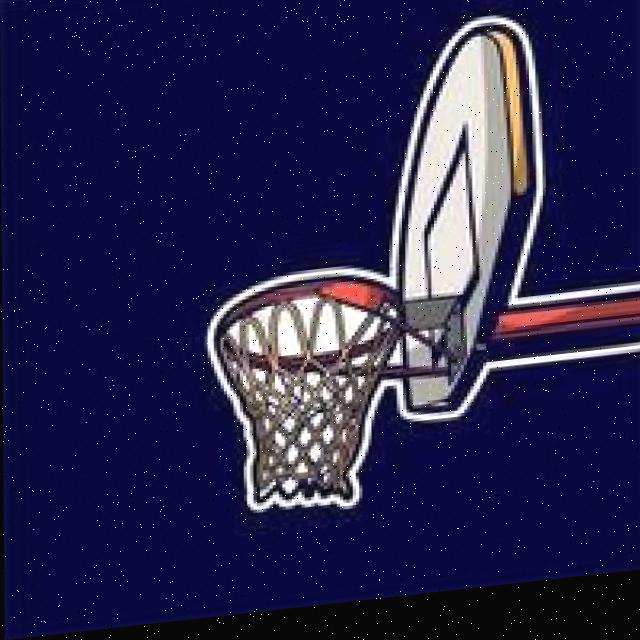hoop: (213, 269, 408, 515)
